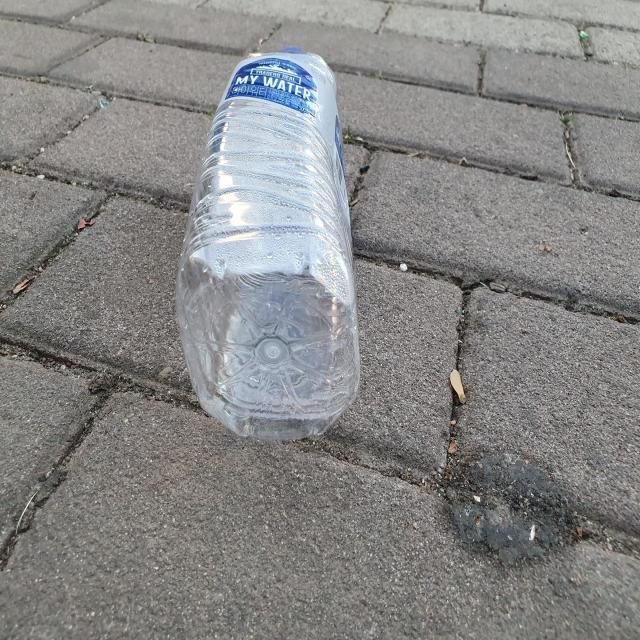plastic: (176, 46, 360, 440)
